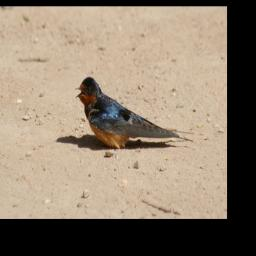Swallow: (75, 75, 194, 147)
